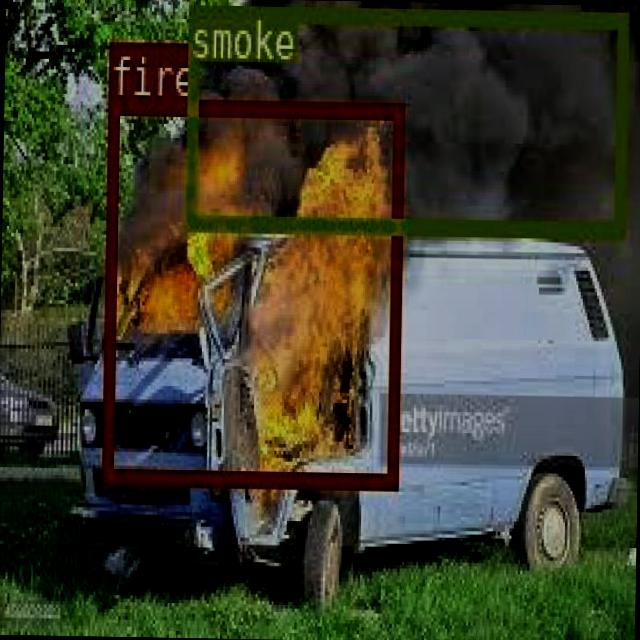fire: (100, 97, 401, 486)
smoke: (184, 3, 626, 235)
